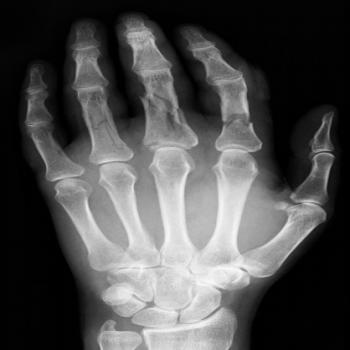Fracture: (137, 93, 201, 133), (88, 114, 132, 156), (216, 109, 266, 137)
